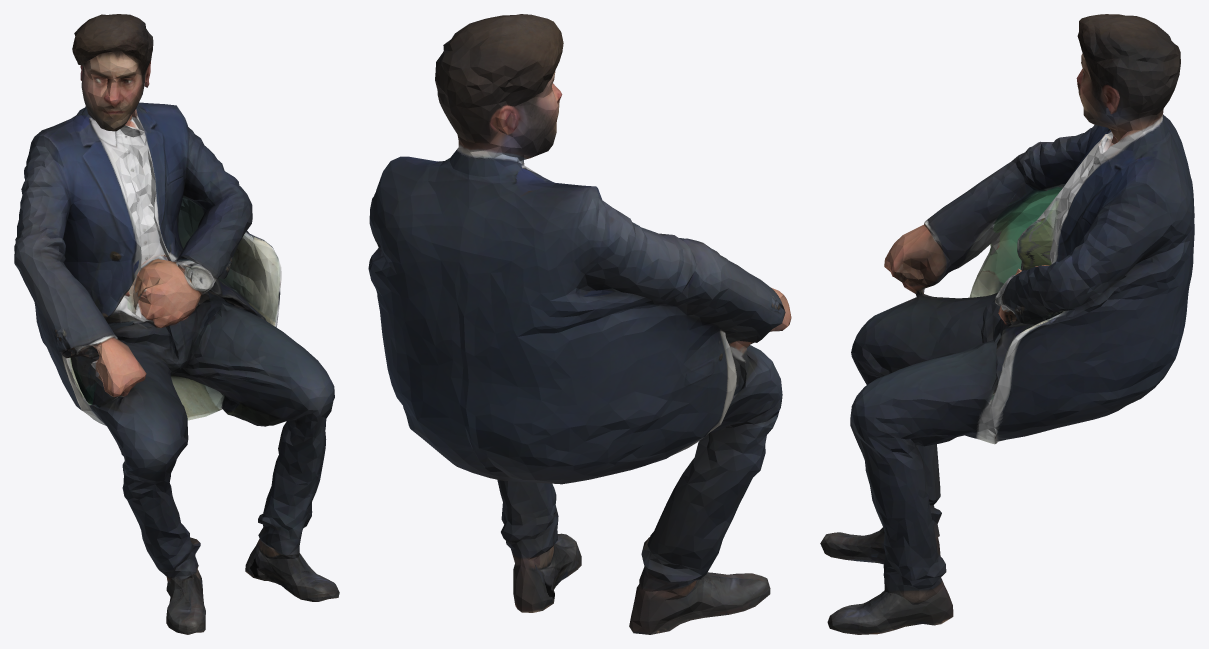
Rendered from 3dprofile.fbx.
3 views of the same model, side by side, from view 1: azimuth 30°, elevation 25°; view 2: azimuth 150°, elevation 25°; view 3: azimuth 270°, elevation 25° (orthographic). The views are drawn at different scales.
Parts seen in each view (by area): view 1: temp; view 2: temp; view 3: temp.
Boxes of the visible parts, x1,y1,x2,y2 form: temp: [14, 14, 339, 634]; temp: [368, 14, 791, 634]; temp: [820, 14, 1194, 634].
Bounding box in the file's own units: 101 × 200 × 120.
Materials: 1 (1 with a texture image).
